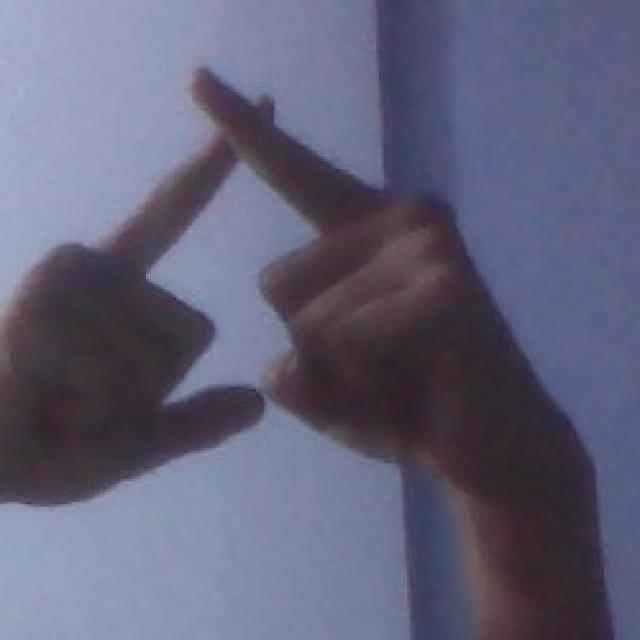Alphabet-X: (0, 50, 536, 539)
